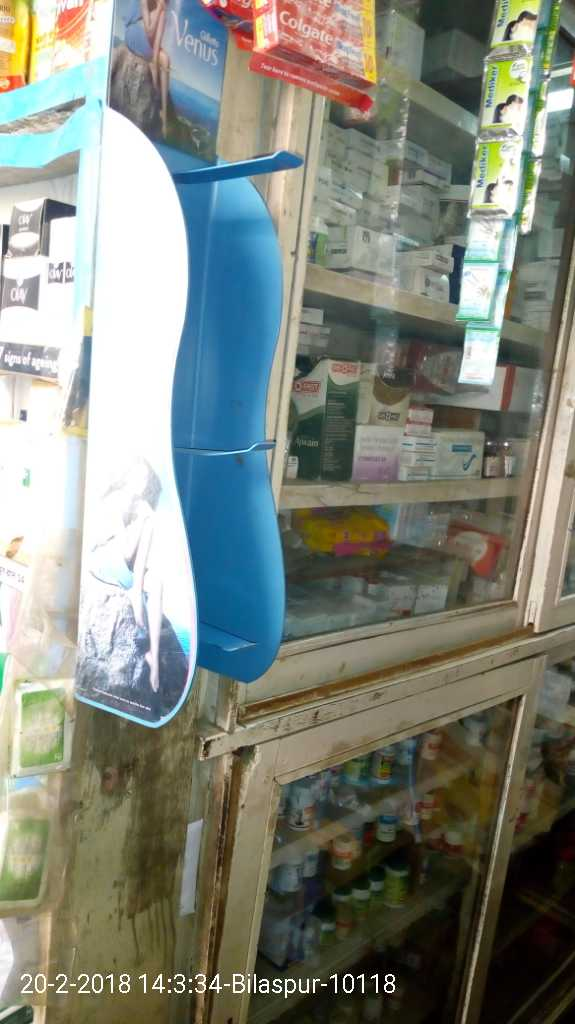reject: (158, 403, 275, 563)
